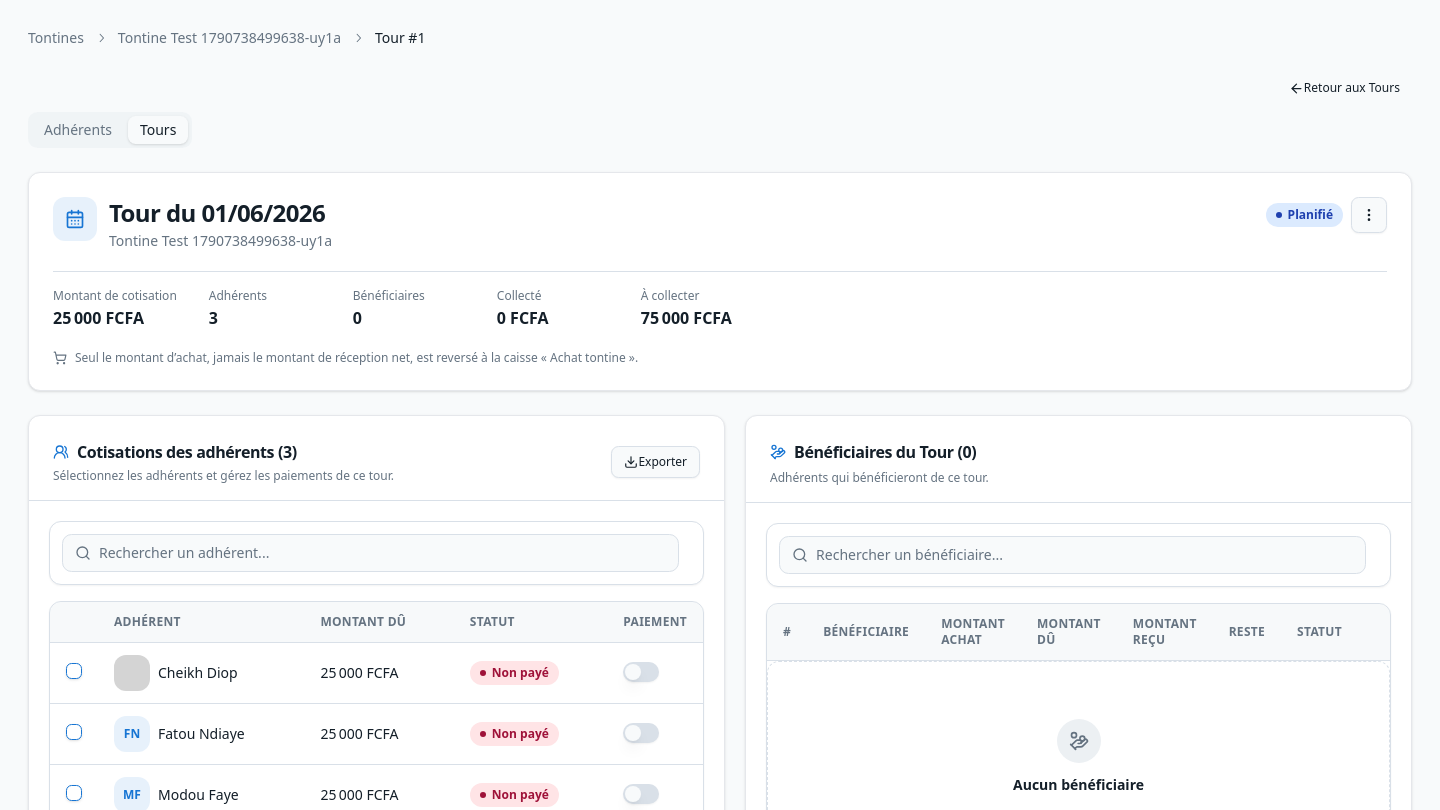
Test case: Espace de travail du Tour — Bénéficiaires (Ajouter →/← Enlever) › le paiement d’un adhérent ajouté après la création du Tour peut être basculé ON puis OFF (jamais « Impossible de modifier ce paiement »)
The width and height of the screenshot is (1440, 810).
Expected: the text "Modou Faye" is shown, 158,785 -> 239,804
Click the switch named "Marquer Modou Faye comme réglé". click: (641, 794)
box: 623,784 -> 659,804
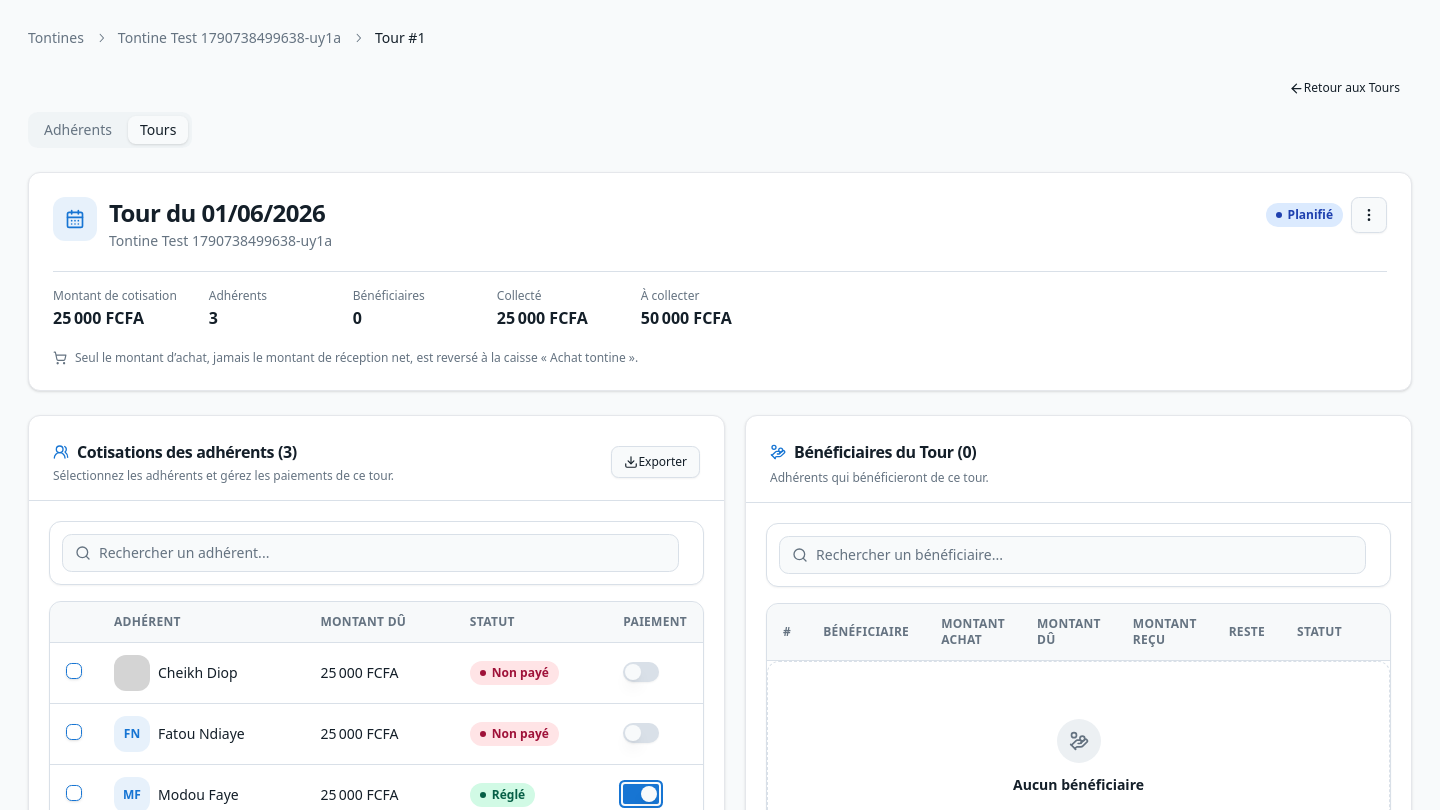
Now the switch named "Marquer Modou Faye comme non payé" is shown
Click the switch named "Marquer Modou Faye comme non payé". click: (641, 794)
box: 623,784 -> 659,804
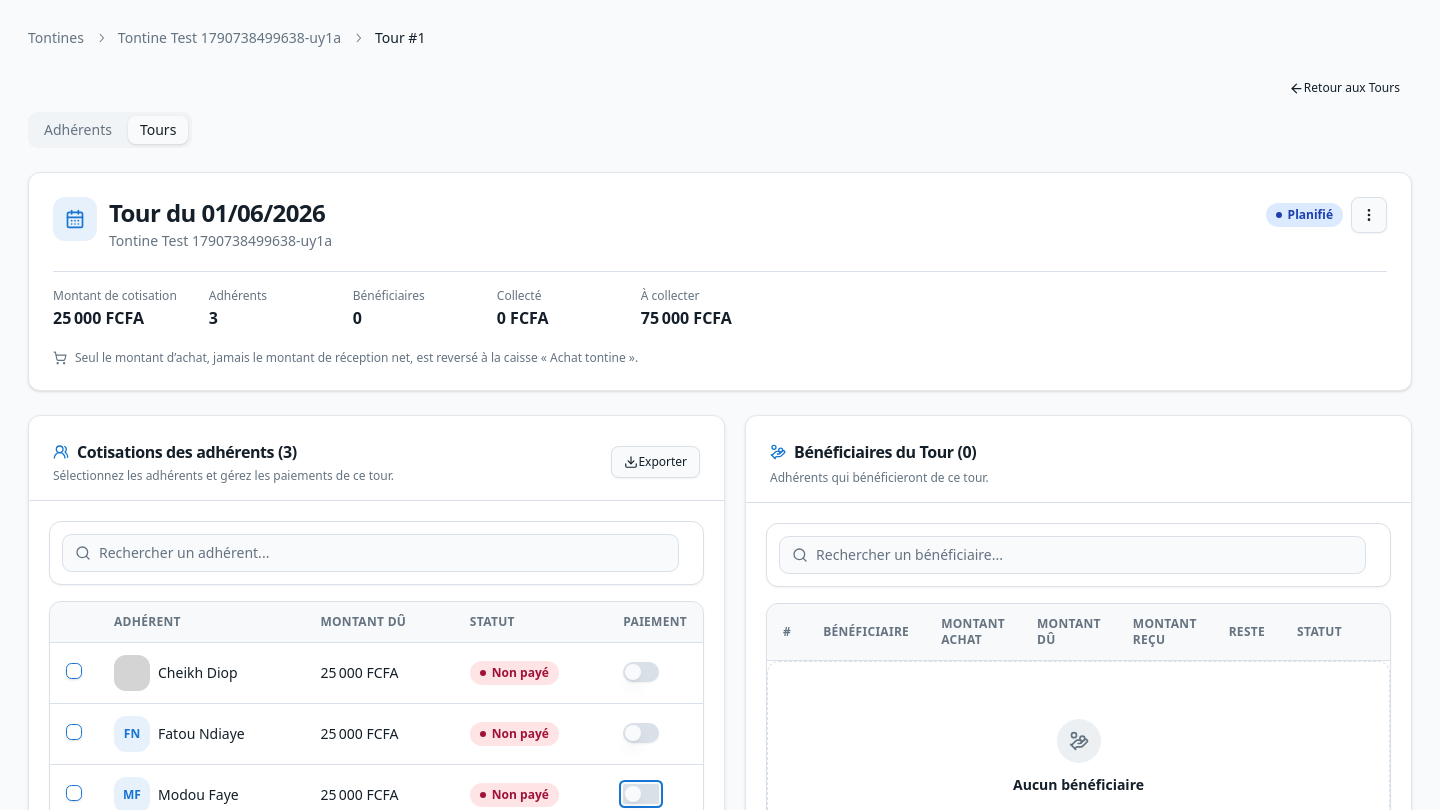
Now the switch named "Marquer Modou Faye comme réglé" is shown, box 623,784 -> 659,804
